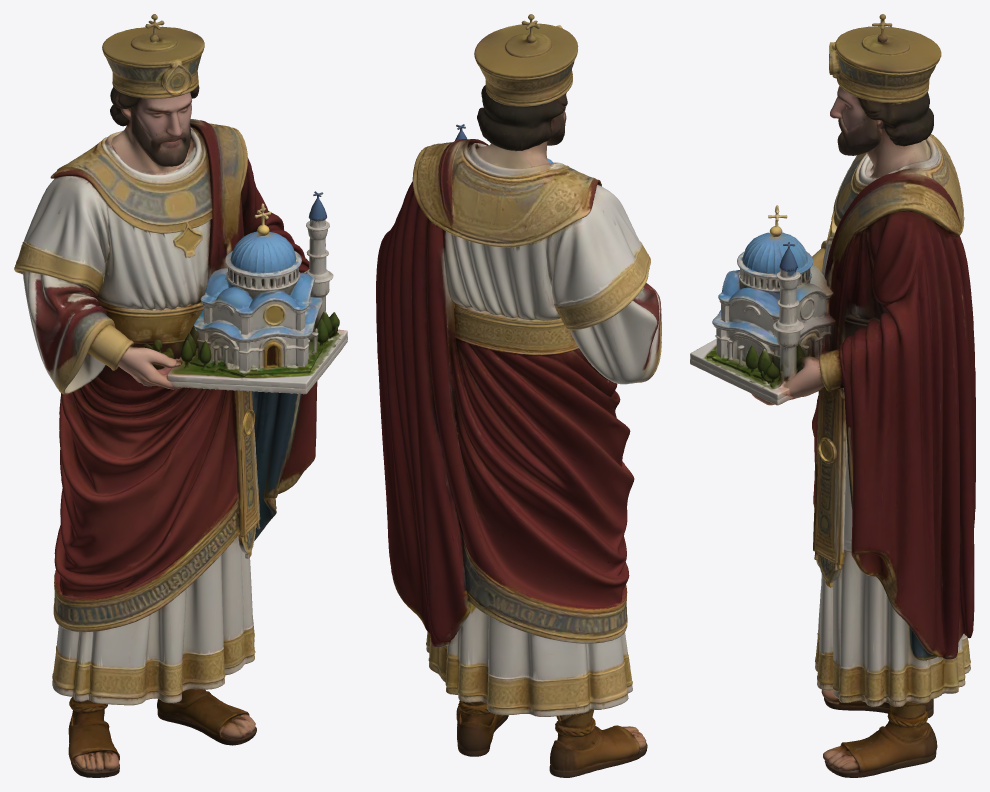
File: justinian.glb
3 renders of one model, left to right at view 1: azimuth 30°, elevation 25°; view 2: azimuth 150°, elevation 25°; view 3: azimuth 270°, elevation 25°, orthographic.
Parts seen in each view (by area): view 1: node_0; view 2: node_0; view 3: node_0.
Boxes of the visible parts, x1,y1,x2,y2 form: node_0: (14,14,347,777); node_0: (376,14,661,777); node_0: (690,14,975,777).
Bounding box in the file's own units: 0.4515 × 1.15 × 0.4101.
Materials: 1 (1 with a texture image).
